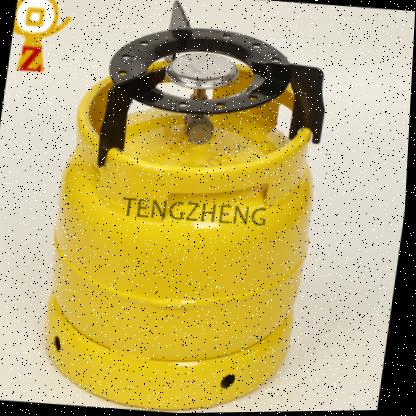gas-tank: (4, 32, 356, 415)
